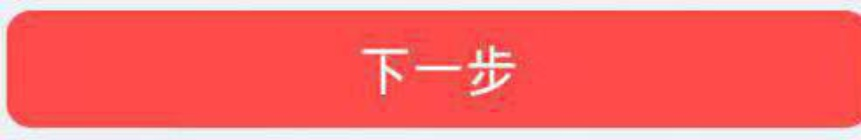Button: (1, 1, 860, 139)
